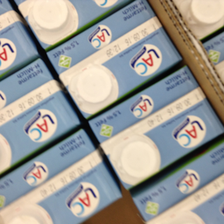milk: (70, 68, 224, 189), (46, 5, 178, 107), (1, 132, 120, 224), (1, 58, 86, 168), (128, 137, 224, 221)
